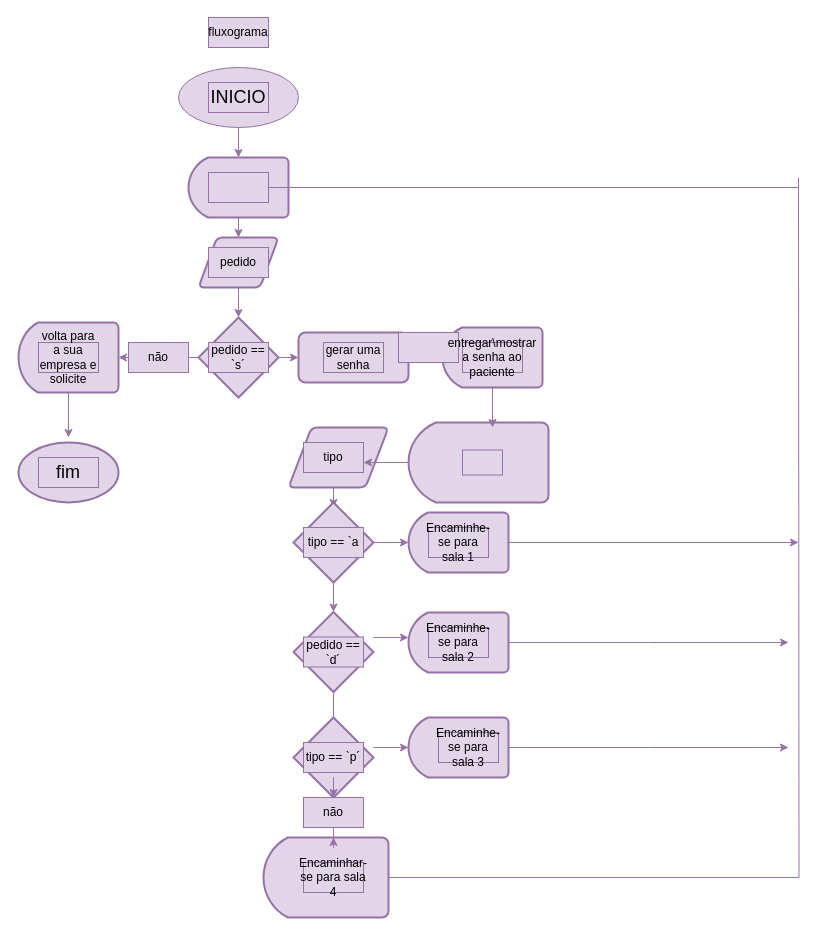
Image size: 824x936. Some labels were removed from this diagram. The centre of each missing label's shape, as x and y in pixels:
"possui pedido de exame s/h?" belongs at pixel 238 187.
"Qual o tipo de exame? a=admicional d=demissional p=periodo 0=outro" belongs at pixel 482 462.
"sim" belongs at pixel 428 347.
